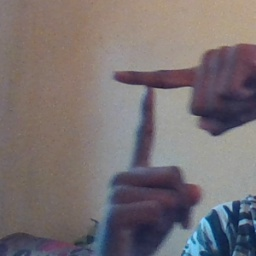T: (93, 53, 210, 191)
